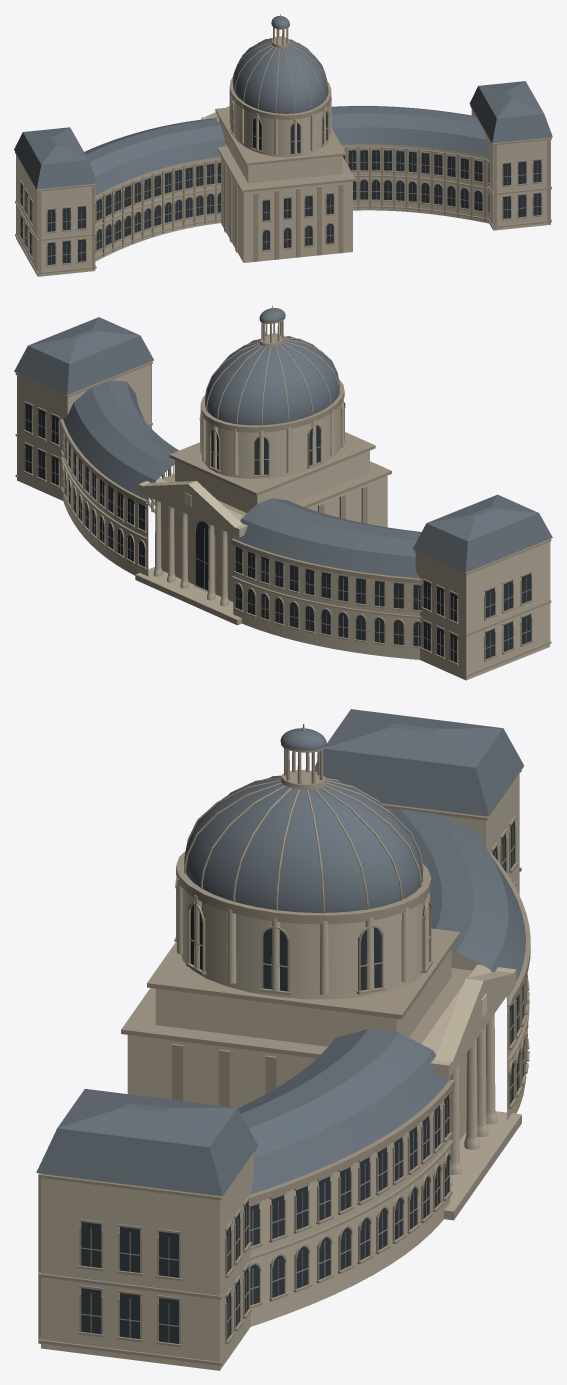
File: paris-institut-de-france-near.glb
3 renders of one model, top to bottom at view 1: azimuth 30°, elevation 25°; view 2: azimuth 150°, elevation 25°; view 3: azimuth 270°, elevation 25°, orthographic. The views are drawn at different scales.
Visible parts, largest first — view 1: paris-institut-de-france-0-stone, paris-institut-de-france-0-slate, paris-institut-de-france-0-shade, paris-institut-de-france-0-glass; view 2: paris-institut-de-france-0-stone, paris-institut-de-france-0-slate, paris-institut-de-france-0-shade, paris-institut-de-france-0-glass, paris-institut-de-france-0-steps; view 3: paris-institut-de-france-0-slate, paris-institut-de-france-0-stone, paris-institut-de-france-0-shade, paris-institut-de-france-0-glass, paris-institut-de-france-0-steps.
Boxes of the visible parts, x1,y1,x2,y2 form: paris-institut-de-france-0-stone: (16, 86, 550, 276); paris-institut-de-france-0-slate: (14, 16, 552, 195); paris-institut-de-france-0-shade: (15, 23, 551, 275); paris-institut-de-france-0-glass: (20, 102, 541, 264); paris-institut-de-france-0-stone: (17, 362, 549, 680); paris-institut-de-france-0-slate: (14, 308, 552, 578); paris-institut-de-france-0-shade: (15, 317, 551, 677); paris-institut-de-france-0-glass: (25, 403, 531, 662); paris-institut-de-france-0-steps: (135, 567, 241, 625); paris-institut-de-france-0-slate: (36, 709, 525, 1196); paris-institut-de-france-0-stone: (41, 773, 525, 1370); paris-institut-de-france-0-shade: (38, 743, 530, 1365); paris-institut-de-france-0-glass: (81, 821, 523, 1343); paris-institut-de-france-0-steps: (444, 1111, 521, 1220).
Size of the model in its own units: 132 by 57.8 by 60.97.
